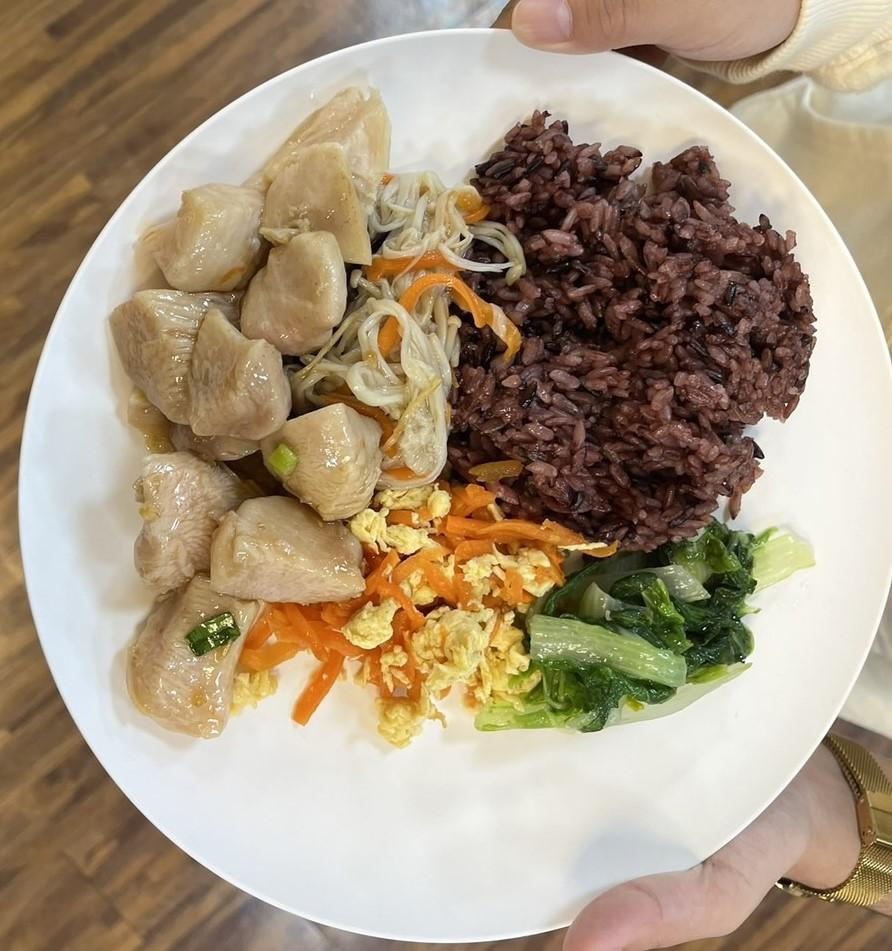big fried chicken leg: (10, 22, 892, 951)
braised fish: (462, 114, 820, 544)
braised fish fillet: (297, 494, 560, 748), (508, 524, 809, 739), (332, 168, 490, 481)
braised pork: (105, 78, 404, 740)
